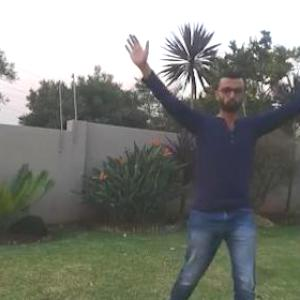takeoff: (125, 37, 299, 299)
